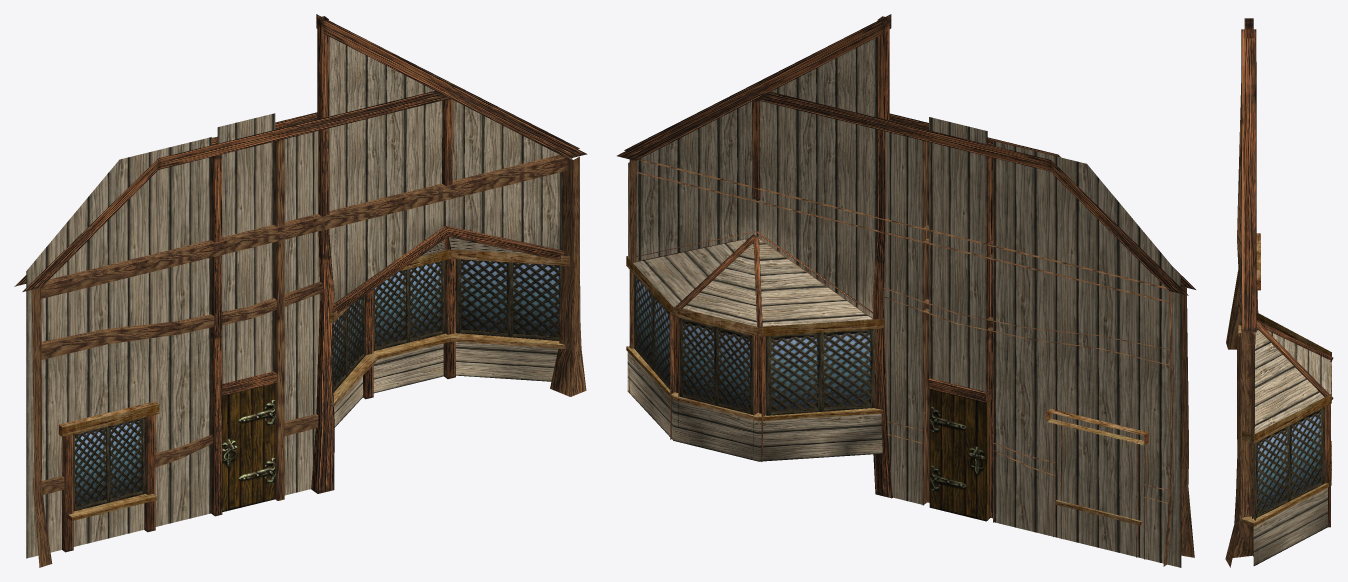
File: LAKETOWN_PUB_PS_PUB_FRONTWALL99__GX.fbx
3 views of the same model, side by side, from view 1: azimuth 30°, elevation 25°; view 2: azimuth 150°, elevation 25°; view 3: azimuth 270°, elevation 25° (orthographic).
Parts seen in each view (by area): view 1: LAKETOWN_PUB_PS_PUB_FRONTWALL99__GX; view 2: LAKETOWN_PUB_PS_PUB_FRONTWALL99__GX; view 3: LAKETOWN_PUB_PS_PUB_FRONTWALL99__GX.
Boxes of the visible parts, x1=… form: LAKETOWN_PUB_PS_PUB_FRONTWALL99__GX: x1=14, y1=14, x2=587, y2=567; LAKETOWN_PUB_PS_PUB_FRONTWALL99__GX: x1=617, y1=14, x2=1195, y2=567; LAKETOWN_PUB_PS_PUB_FRONTWALL99__GX: x1=1225, y1=18, x2=1333, y2=567.
Size of the model in its own units: 114692 by 91438 by 19101.
11 materials, 11 textured.
